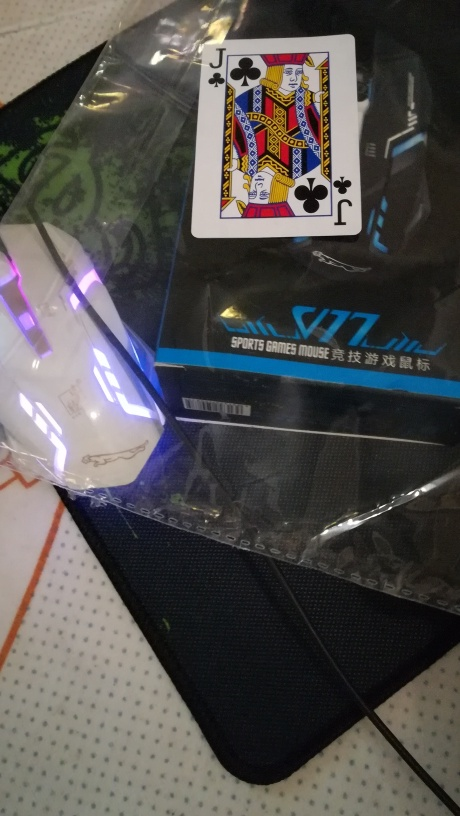mh j: (191, 30, 366, 240)
